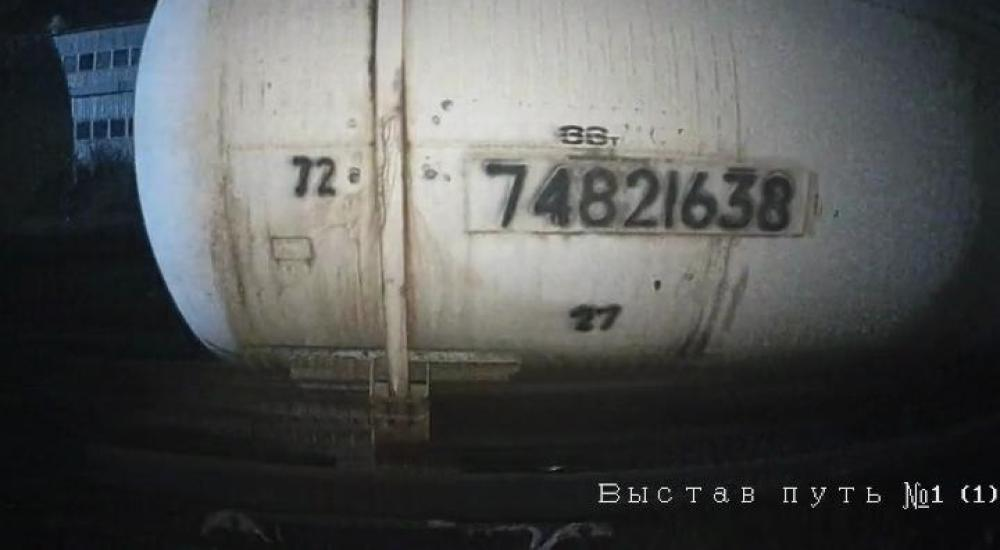Wagon-number: (472, 160, 796, 234)
